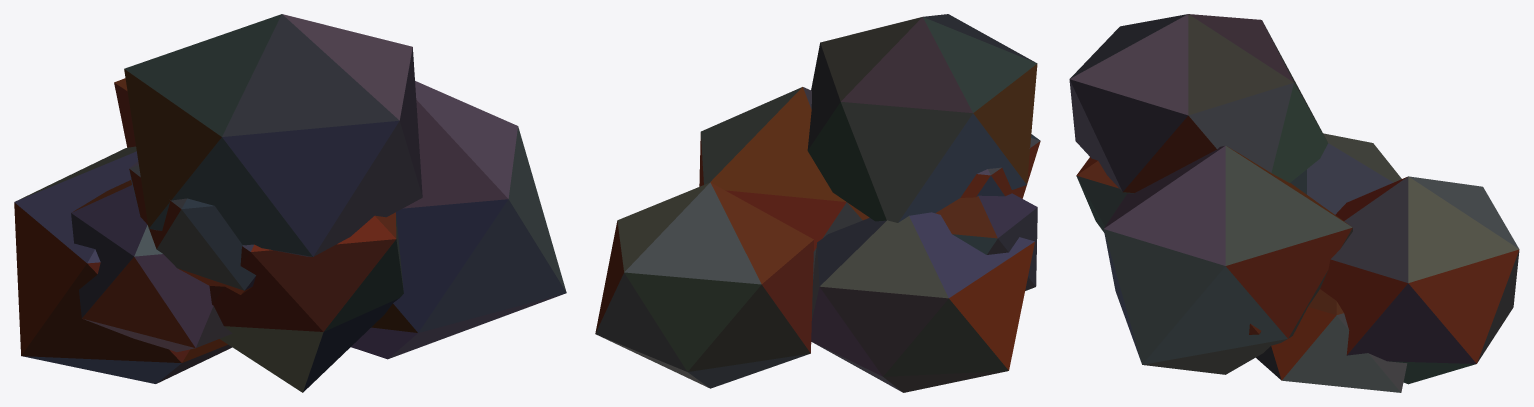
The model's file is iron_ore_ground.glb.
3 renders of one model, left to right at view 1: azimuth 30°, elevation 25°; view 2: azimuth 150°, elevation 25°; view 3: azimuth 270°, elevation 25°, orthographic. The views are drawn at different scales.
Parts seen in each view (by area): view 1: Ore; view 2: Ore; view 3: Ore.
Boxes of the visible parts, x1,y1,x2,y2 form: Ore: (14, 14, 566, 392); Ore: (595, 14, 1040, 392); Ore: (1069, 14, 1519, 392).
Size of the model in its own units: 0.3227 by 0.2859 by 0.3579.
